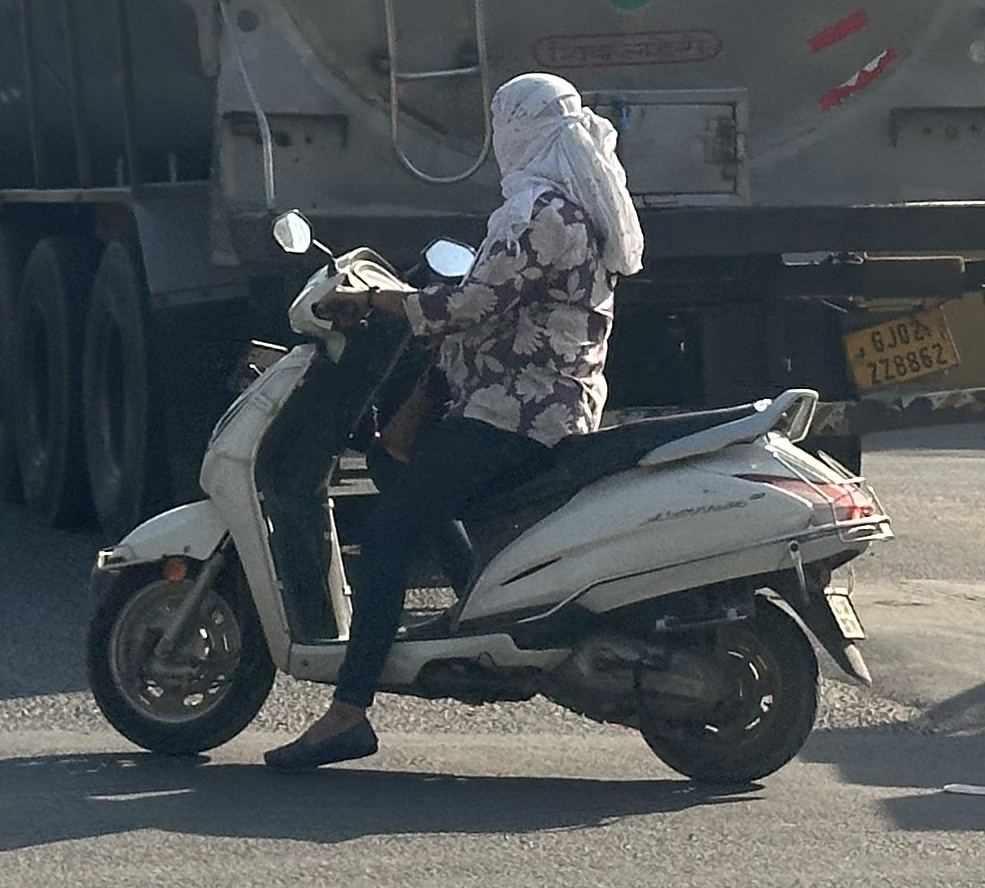BikeWithRider: (68, 62, 905, 796)
NoHelmet: (480, 64, 605, 186)
